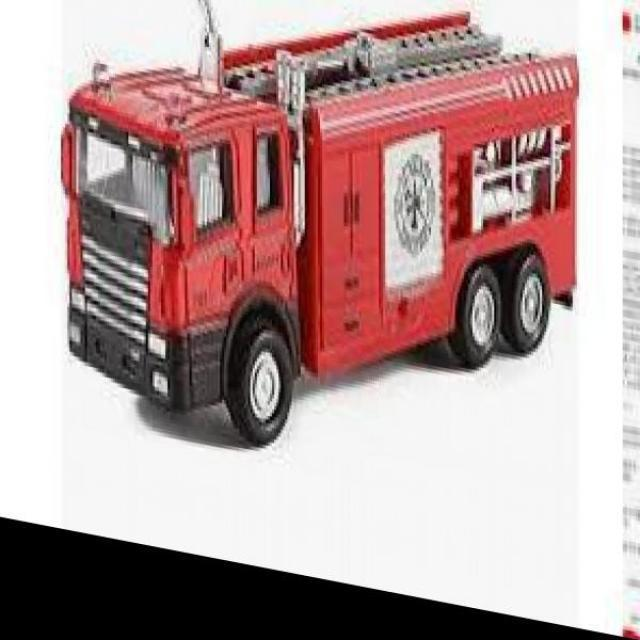emergency: (58, 0, 578, 448)
